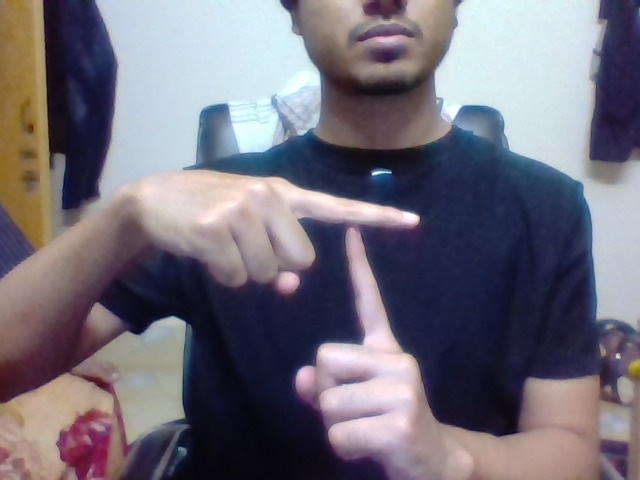T: (321, 181, 434, 326)
